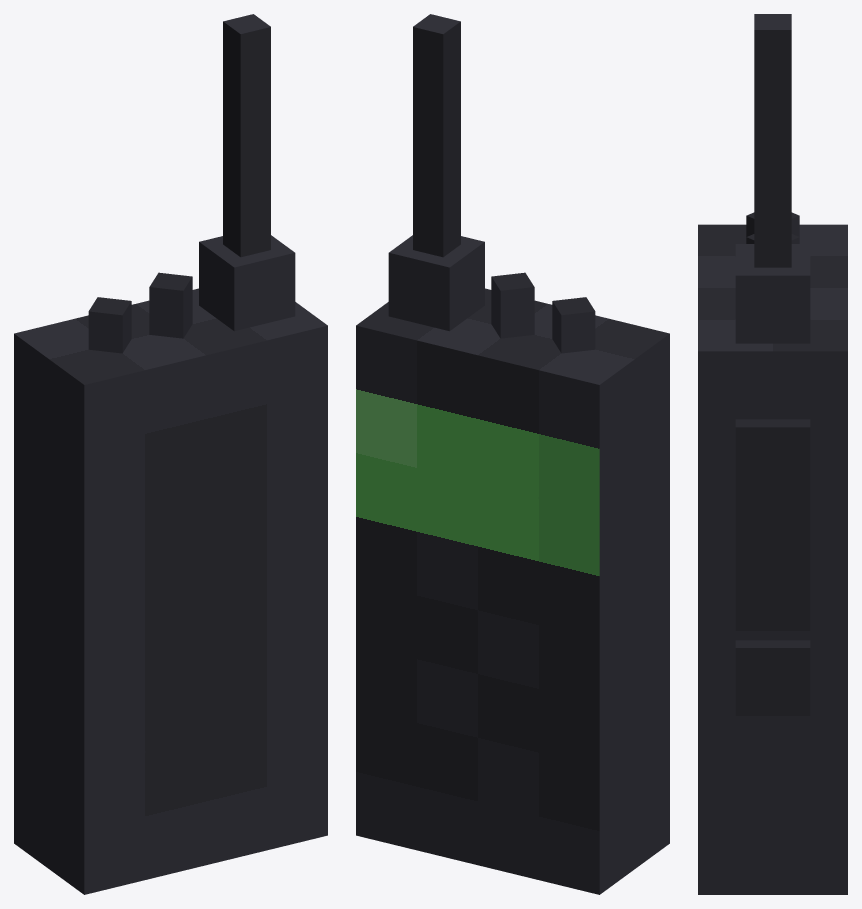
Rendered from radio.obj.
3 views of the same model, side by side, from view 1: azimuth 30°, elevation 25°; view 2: azimuth 150°, elevation 25°; view 3: azimuth 270°, elevation 25° (orthographic). The views are drawn at different scales.
Parts seen in each view (by area): view 1: cube; view 2: cube; view 3: cube.
Part boxes in pixels (bbox=[...]): cube: bbox=[14, 14, 327, 894]; cube: bbox=[356, 14, 669, 894]; cube: bbox=[698, 14, 847, 894].
Size of the model in its own units: 0.2656 by 0.7812 by 0.125.
Materials: 1 (1 with a texture image).
